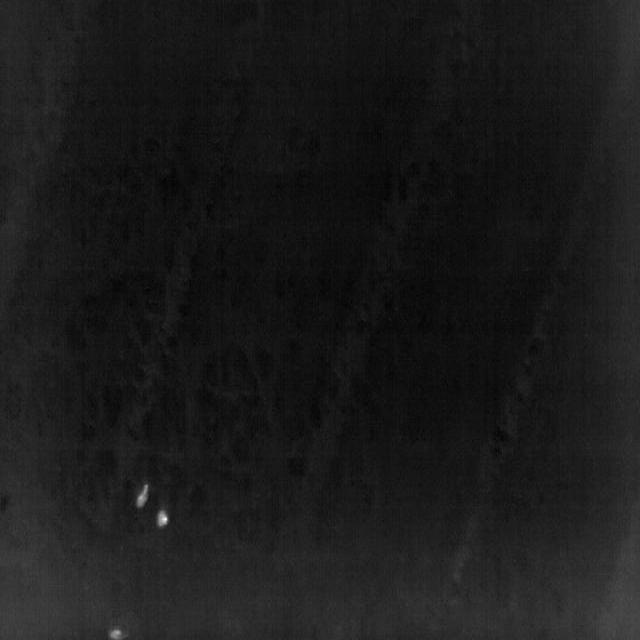deer: (136, 484, 149, 508), (157, 510, 168, 529), (109, 629, 127, 640)
